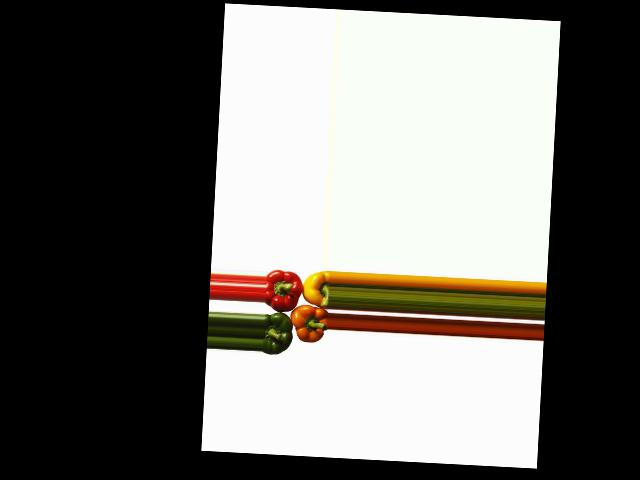bell_pepper: (299, 268, 331, 311)
